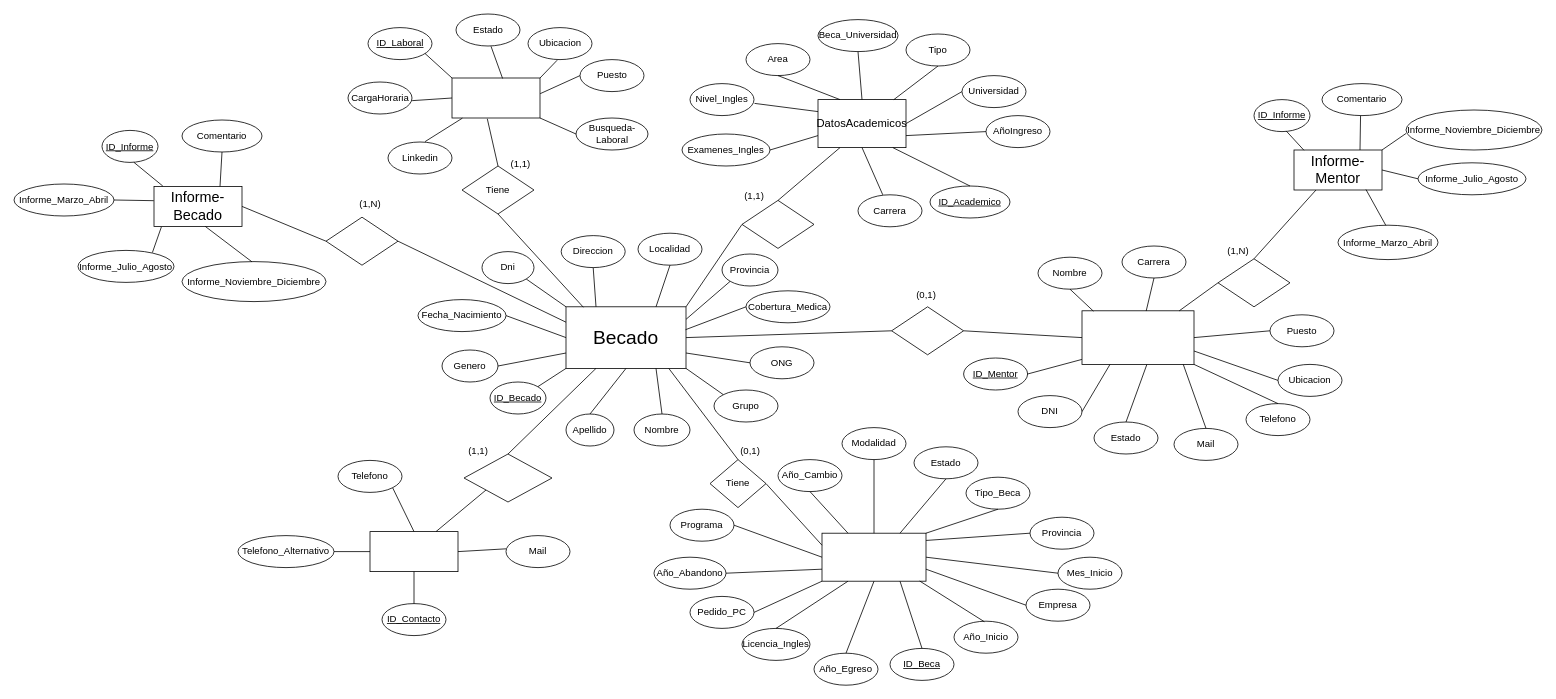
Image size: 1556x699. Some labels were removed from this diagram. The shapes that lost their labels are listed below. From the top down, each one's box as (x1, y1, x2, y2) in pixels, then its label:
(451, 77, 540, 118): DatosLaborales
(325, 216, 398, 265): Realiza
(741, 200, 814, 248): Posee
(1217, 258, 1290, 307): Genera
(891, 306, 964, 355): Guiado por
(1081, 310, 1194, 364): Mentor
(463, 453, 552, 502): Contactado mediante
(369, 531, 458, 572): Contacto
(821, 532, 926, 581): Beca
